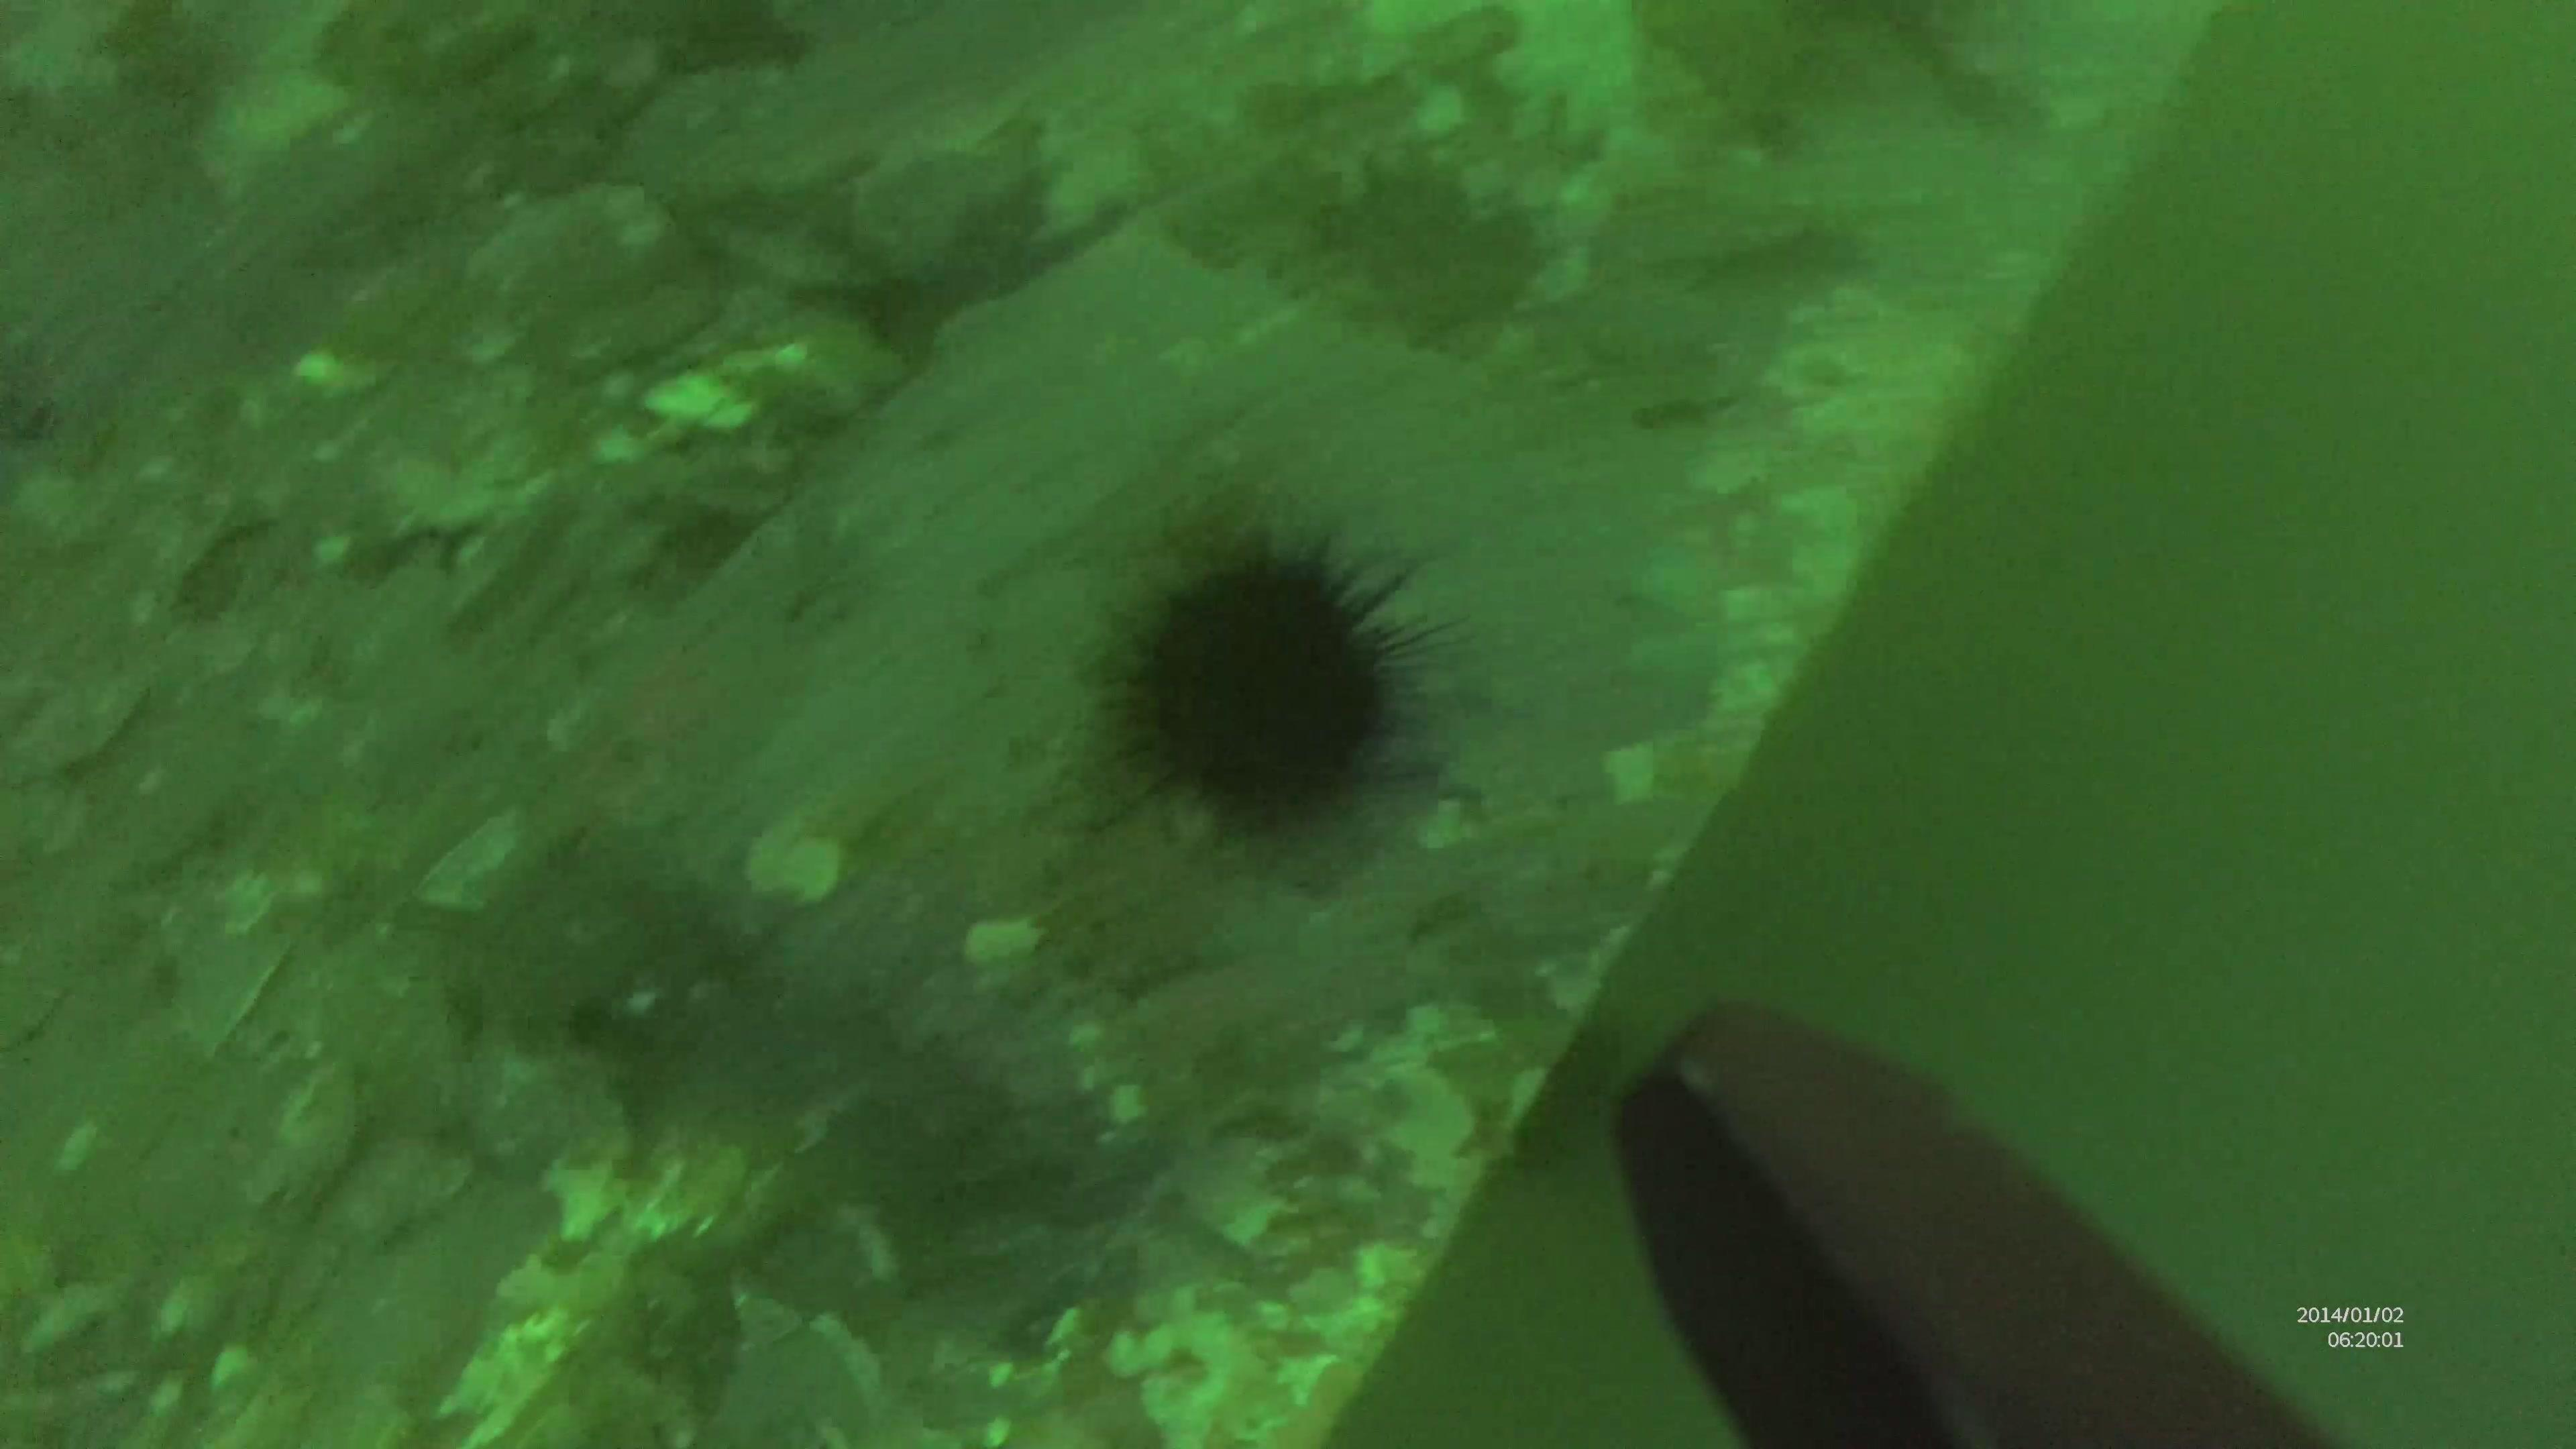echinus: (1072, 499, 1454, 872)
scallop: (159, 844, 318, 1065), (184, 62, 380, 165), (9, 669, 140, 794), (251, 1046, 357, 1196), (732, 810, 847, 911), (644, 372, 766, 441)
